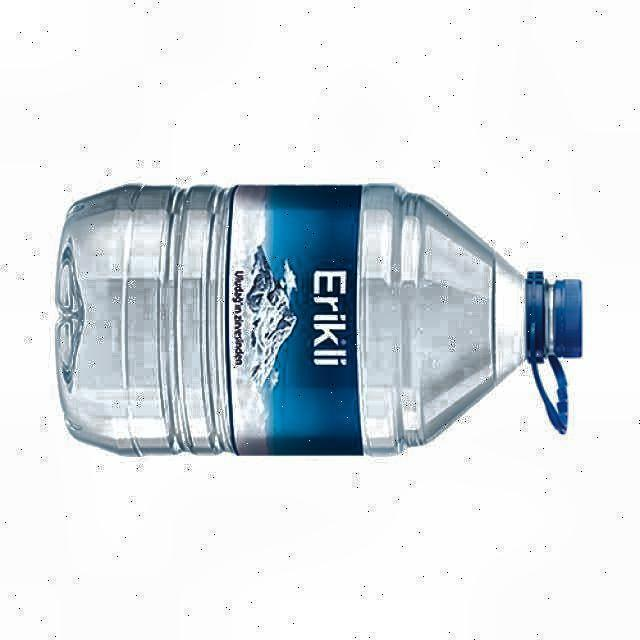plastic: (55, 181, 582, 455)
